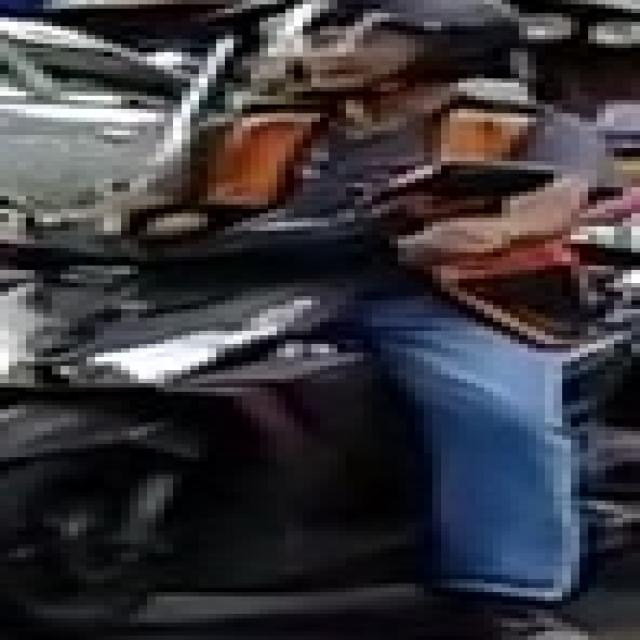door: (0, 13, 234, 244)
